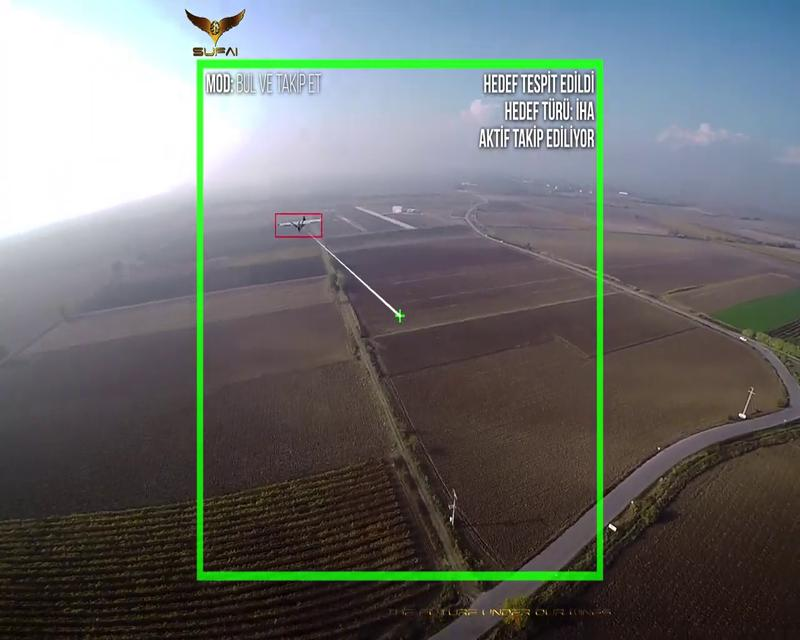UAV: (277, 212, 322, 234)
